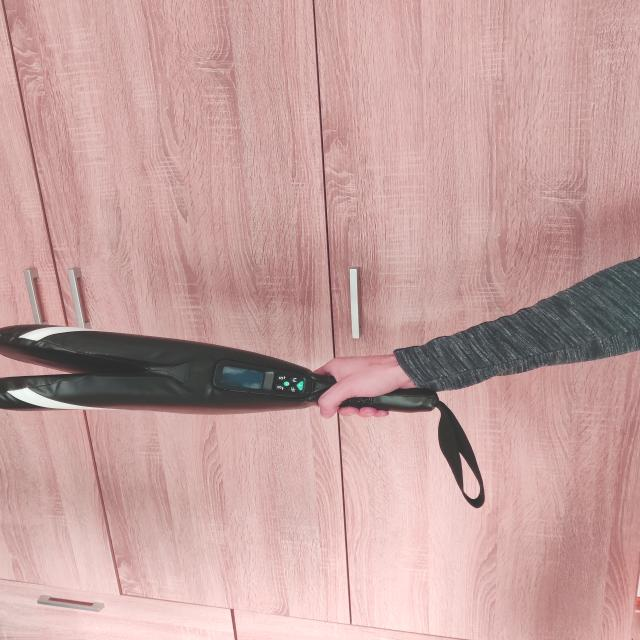paddle: (0, 319, 438, 418)
